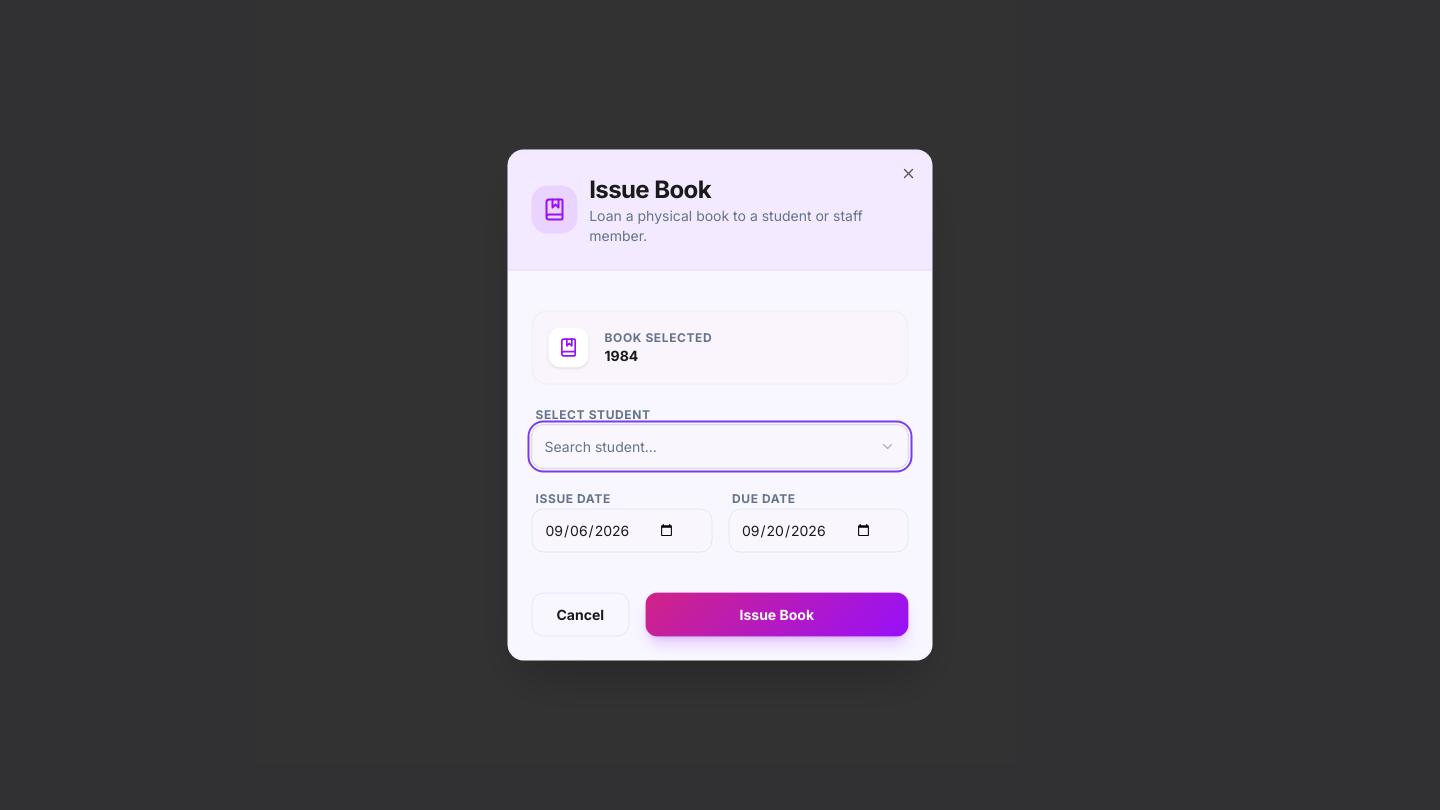
Test: IssueBookDialog › shows 'No students found' when the roster is empty
Click the dropdown. click: x=601, y=446
box: x1=532 y1=424 x2=908 y2=468
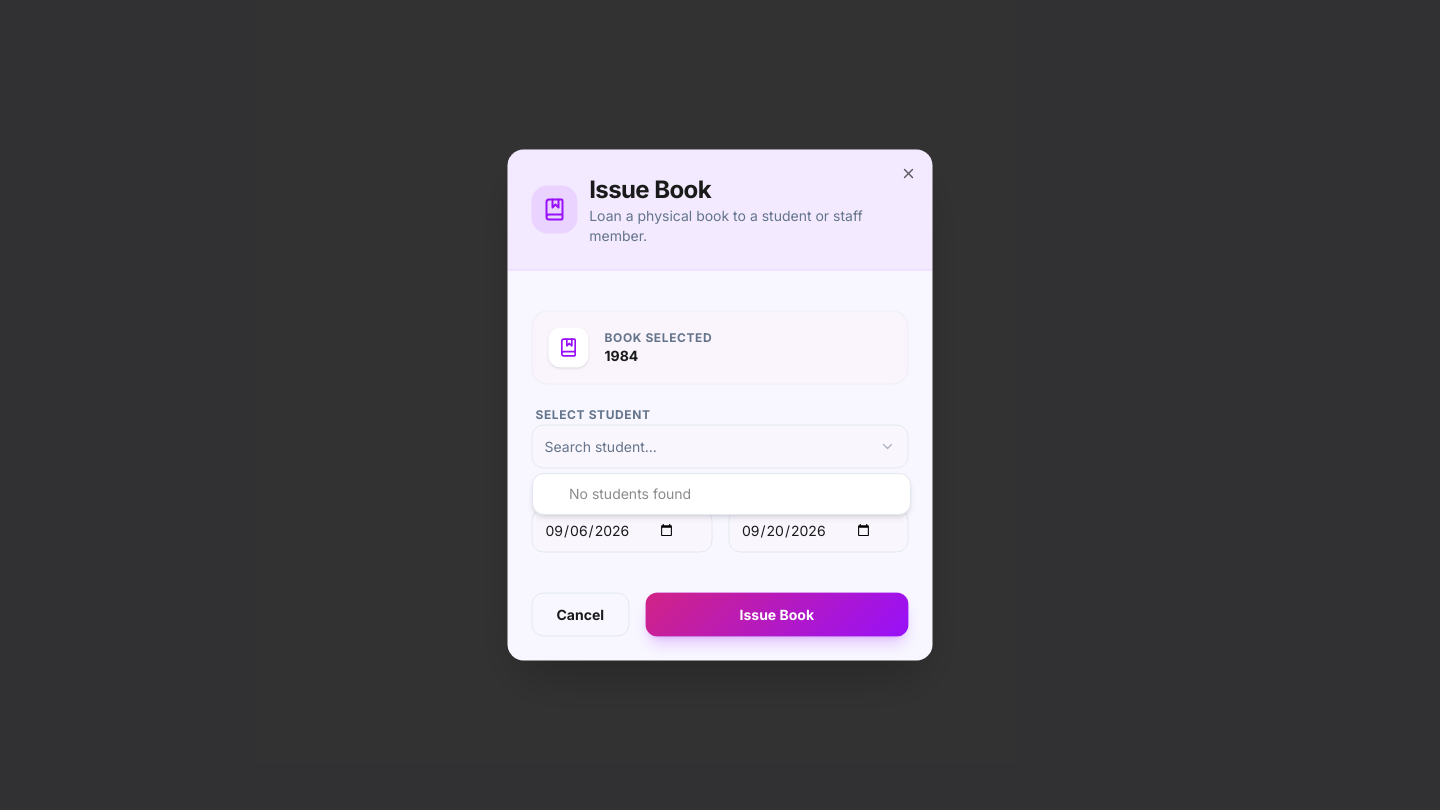
Check: the option "No students found" is shown, box x1=569 y1=485 x2=691 y2=502
